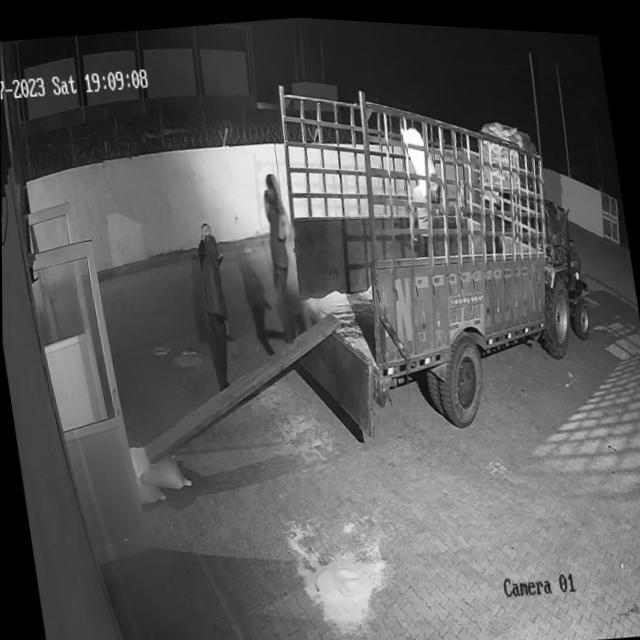sack: (130, 436, 190, 494)
